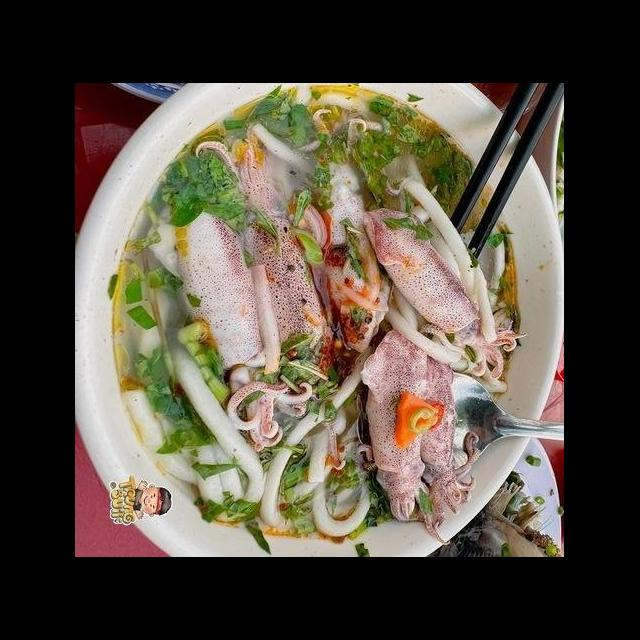bun: (111, 280, 382, 540), (368, 148, 526, 400), (248, 84, 388, 208)
muc: (146, 205, 316, 458), (188, 121, 336, 386), (356, 206, 534, 380), (280, 103, 400, 357), (402, 335, 486, 548), (358, 323, 438, 530)
